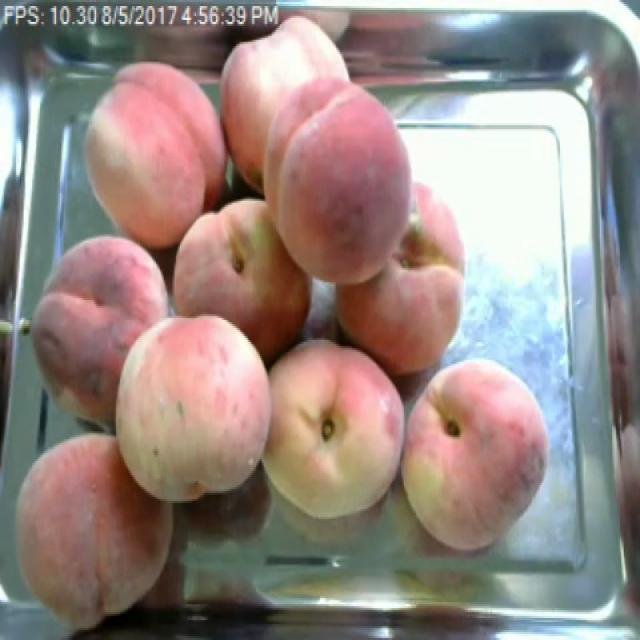Fruit: (241, 68, 427, 298), (0, 419, 189, 639), (98, 302, 286, 517), (15, 223, 184, 455), (391, 352, 561, 564), (252, 328, 417, 535), (75, 52, 232, 258), (330, 173, 478, 386), (160, 185, 324, 370)
